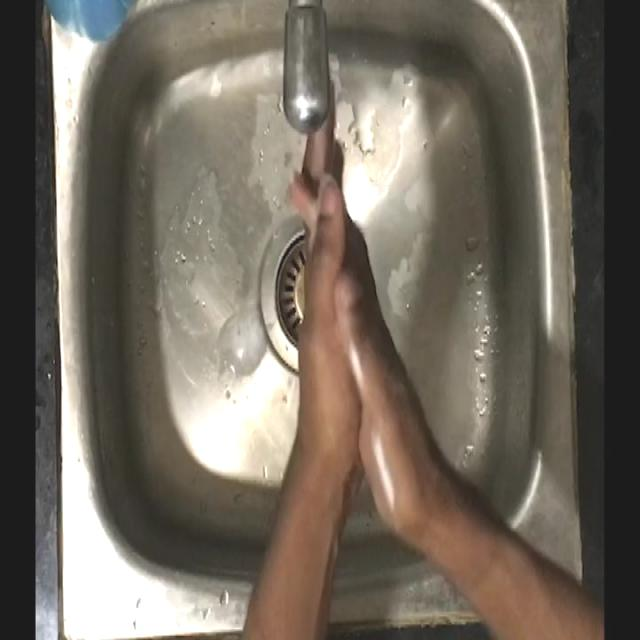step_1: (262, 65, 419, 437)
